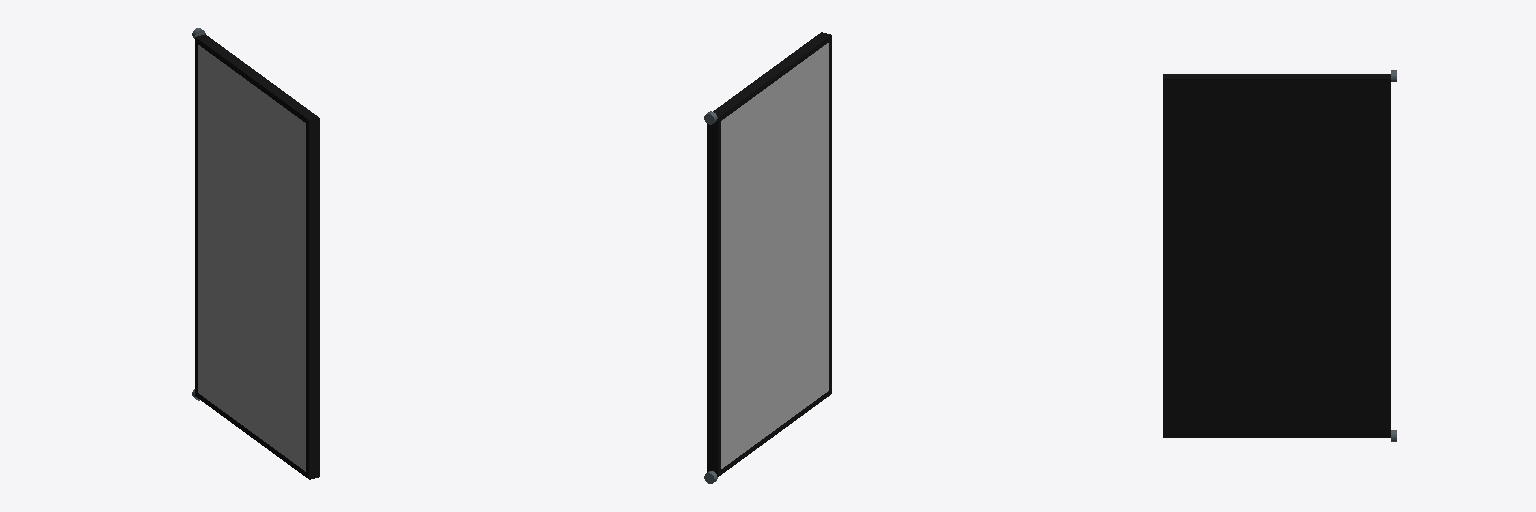
The model's file is whiteboard.obj.
3 renders of one model, left to right at view 1: azimuth 30°, elevation 25°; view 2: azimuth 150°, elevation 25°; view 3: azimuth 270°, elevation 25°, orthographic.
Visible parts, largest first — view 1: Mesh1 room_main_whiteboard1 Model; view 2: Mesh1 room_main_whiteboard1 Model; view 3: Mesh1 room_main_whiteboard1 Model.
Part boxes in pixels (left/top/right/bottom): Mesh1 room_main_whiteboard1 Model: left=195, top=34, right=319, bottom=479; Mesh1 room_main_whiteboard1 Model: left=707, top=32, right=831, bottom=476; Mesh1 room_main_whiteboard1 Model: left=1163, top=74, right=1390, bottom=437.
Bounding box in the file's own units: 0.1 × 3.4 × 1.95.